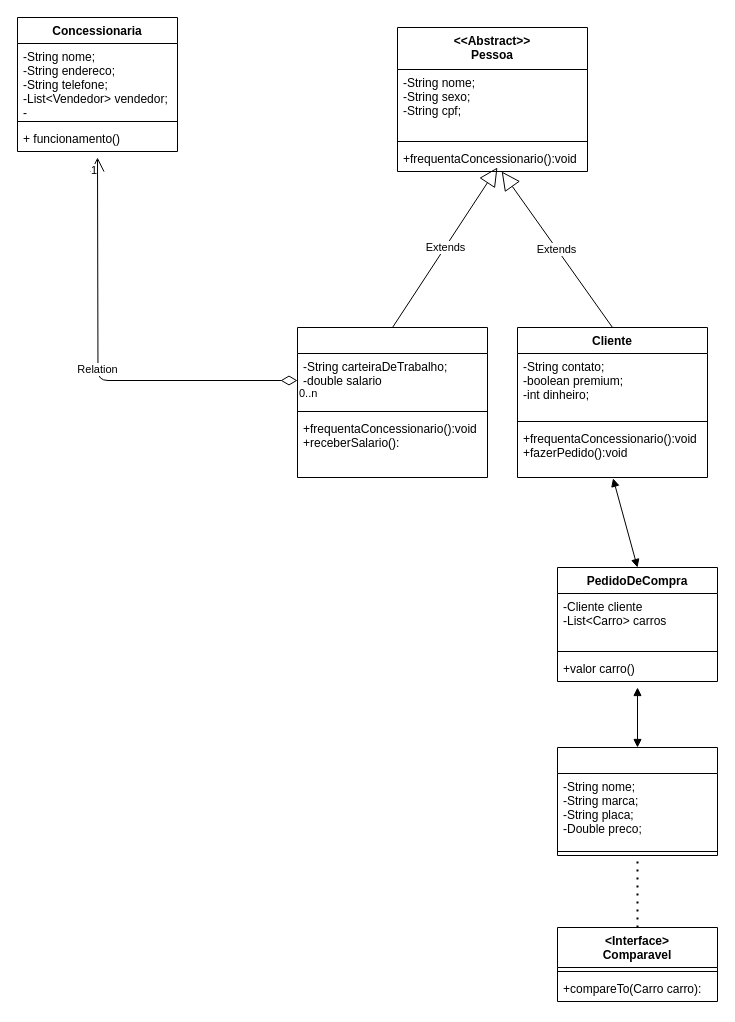
This 735x1022 diagram has some shape labels left out. Here are the shapes that lost their labels. From the top down, the box of each, then its label:
(296, 326, 488, 478): Vendedor
(556, 746, 718, 856): Carro
